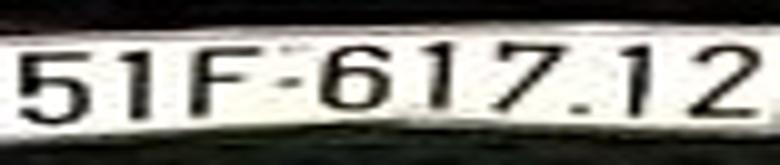-: (270, 67, 305, 93)
.: (568, 98, 594, 122)
1: (615, 41, 656, 123), (116, 47, 157, 127), (424, 36, 458, 113)
2: (684, 40, 768, 124)
5: (15, 47, 94, 128)
6: (319, 38, 394, 116)
7: (493, 35, 562, 119)
F: (183, 42, 264, 114)
